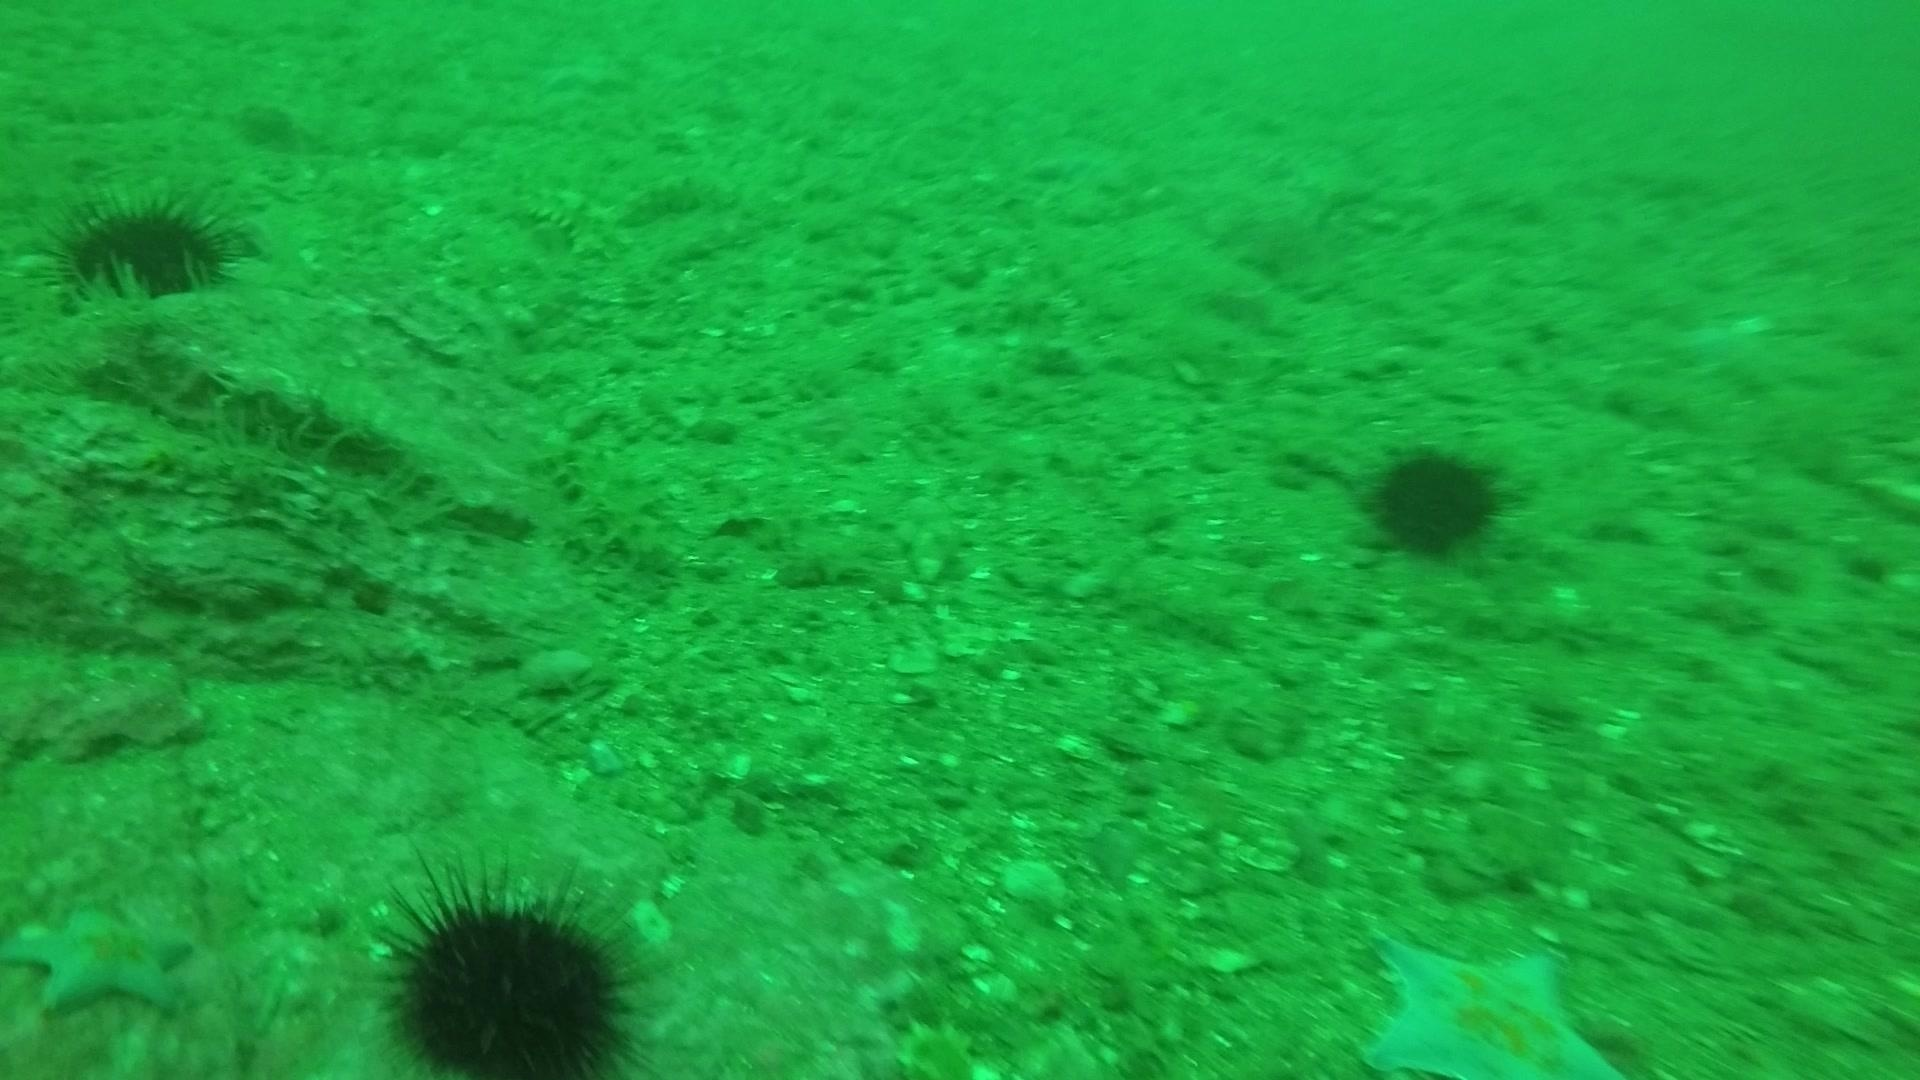echinus: (367, 862, 653, 1077), (40, 185, 247, 309), (1360, 438, 1513, 564)
holothurian: (522, 178, 634, 264)
starfish: (1353, 924, 1629, 1075), (3, 886, 204, 1022)
